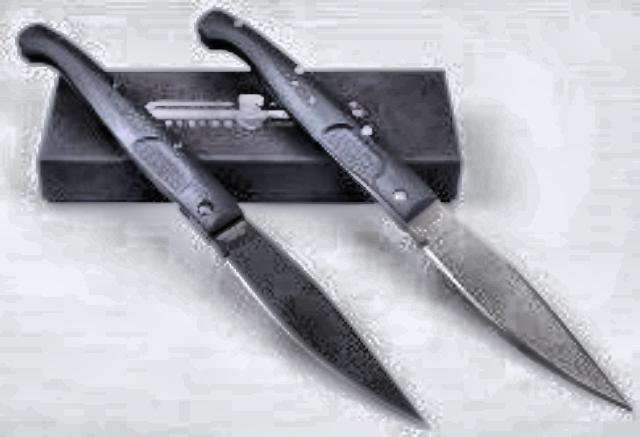knife: (408, 195, 638, 429), (214, 219, 424, 427)
